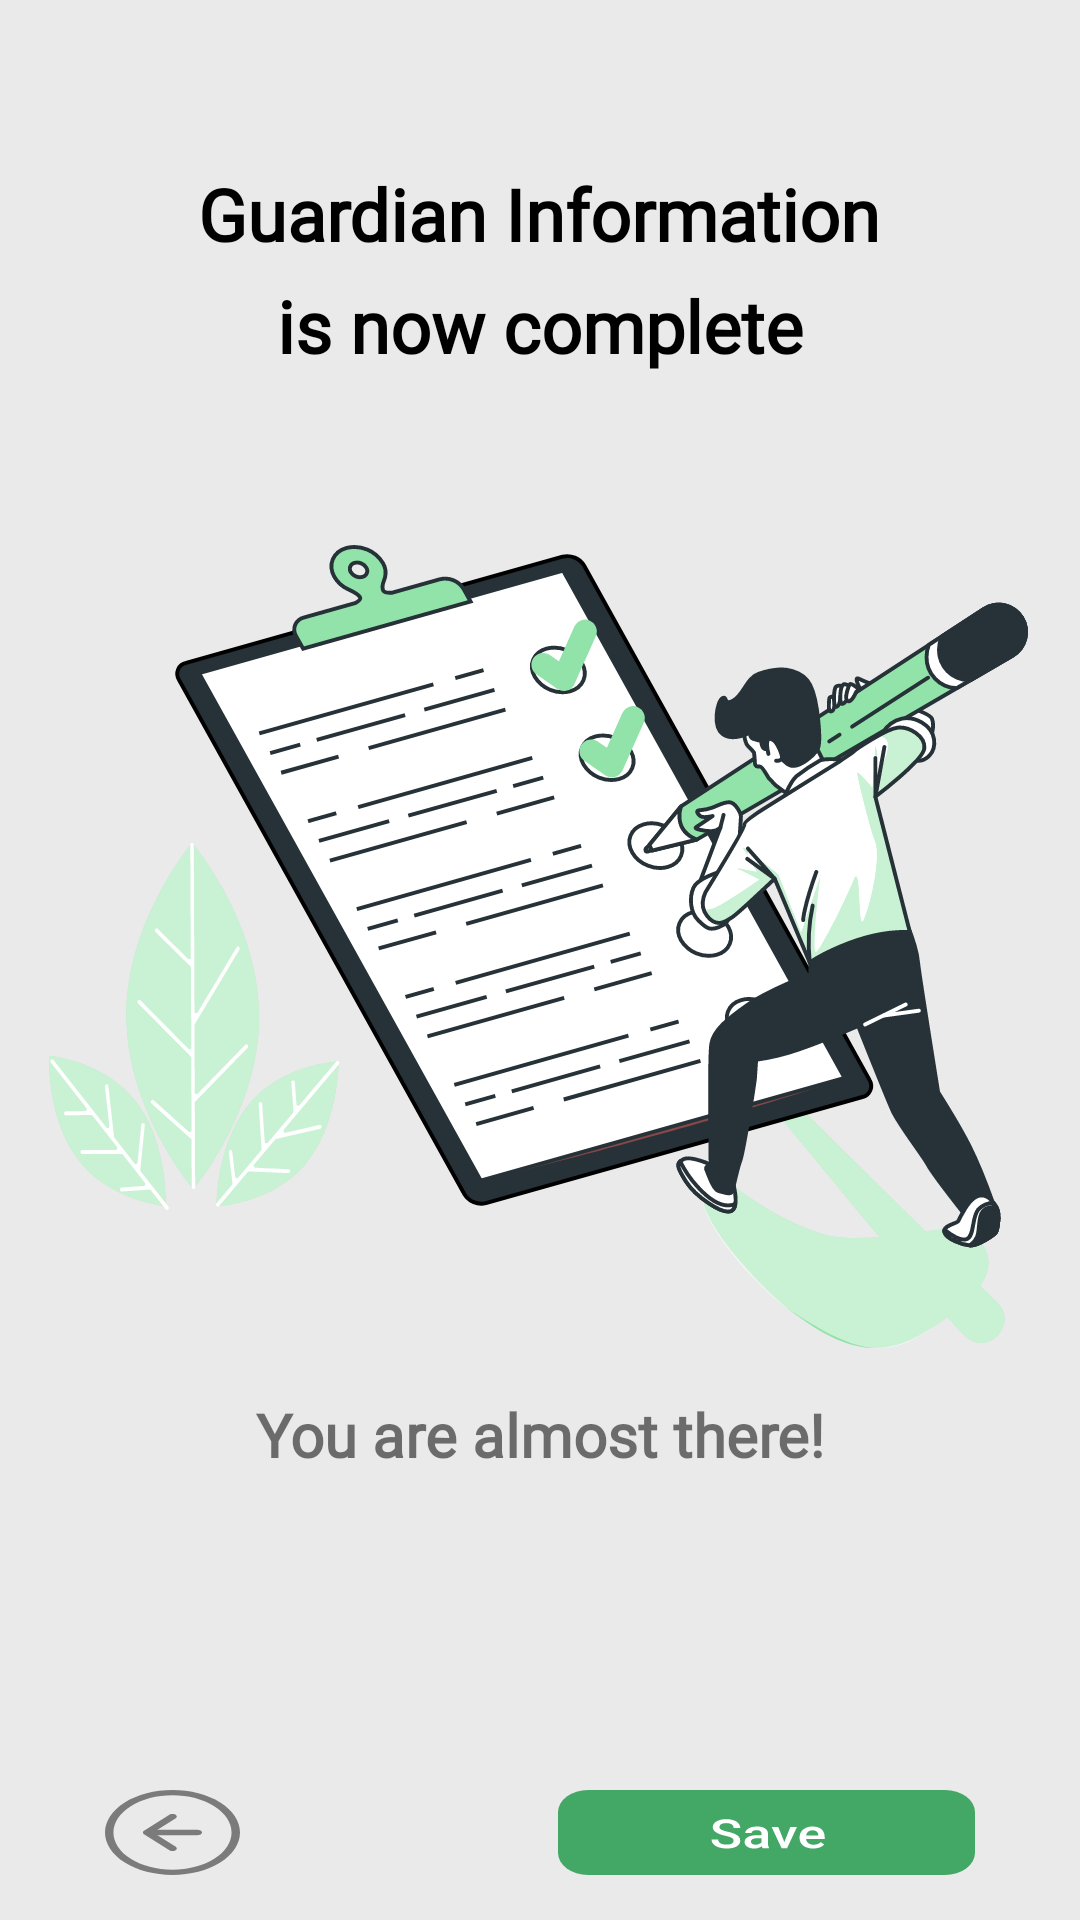

Icon bounding boxes for this 1080*1920 phone screenshot, format bbox=(x1, y1, x2, y2):
bi arrow left circle: bbox=(105, 1790, 240, 1875)
